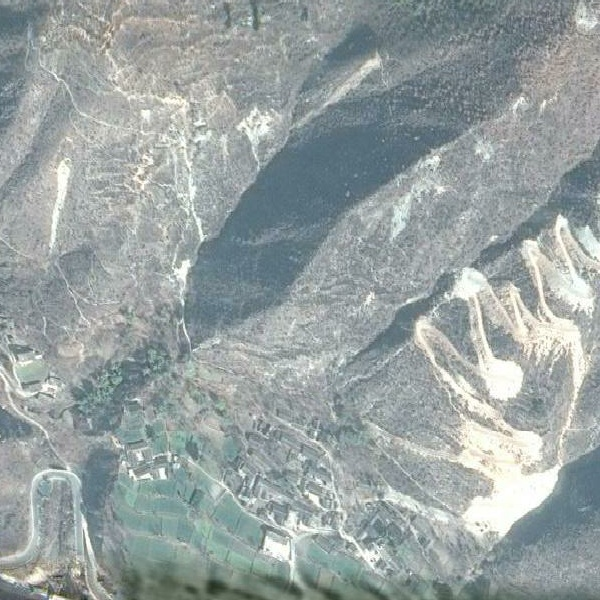slope: (457, 412, 562, 552), (41, 154, 78, 265), (485, 349, 524, 400), (453, 260, 490, 303), (167, 255, 196, 295)
